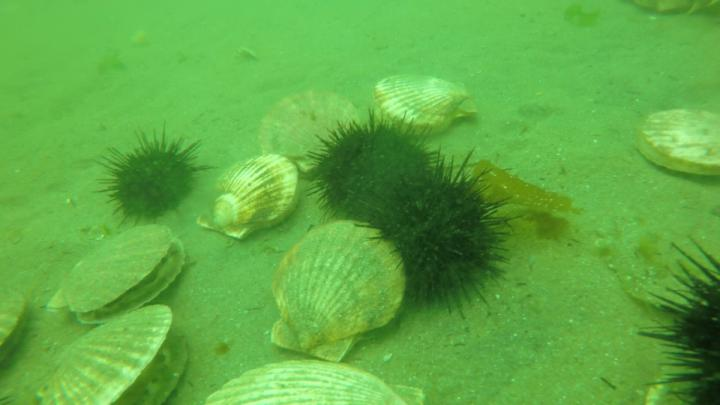echinus: (372, 157, 518, 305), (304, 112, 439, 236), (631, 235, 720, 405), (98, 122, 206, 229)
scallop: (269, 225, 407, 366), (31, 305, 189, 405), (49, 223, 186, 324), (259, 84, 366, 181), (199, 360, 426, 405), (194, 155, 299, 242), (369, 71, 481, 141), (638, 105, 720, 180), (1, 279, 27, 376)
